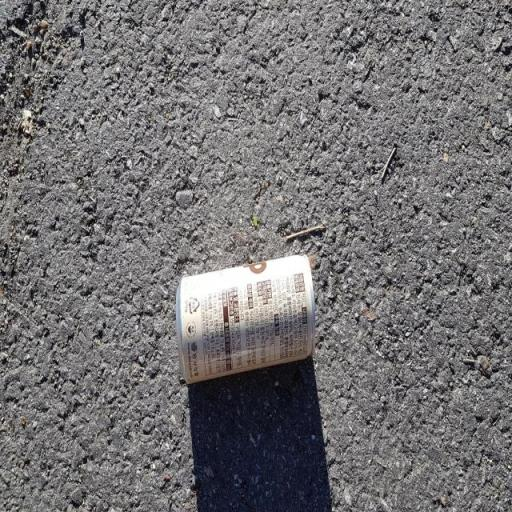metal: (131, 208, 348, 414)
